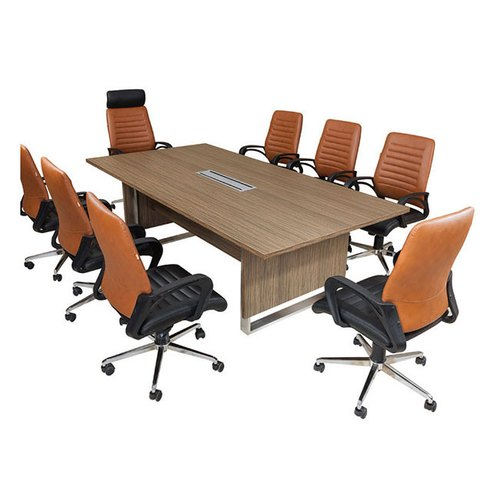conference_table: (86, 144, 409, 335)
